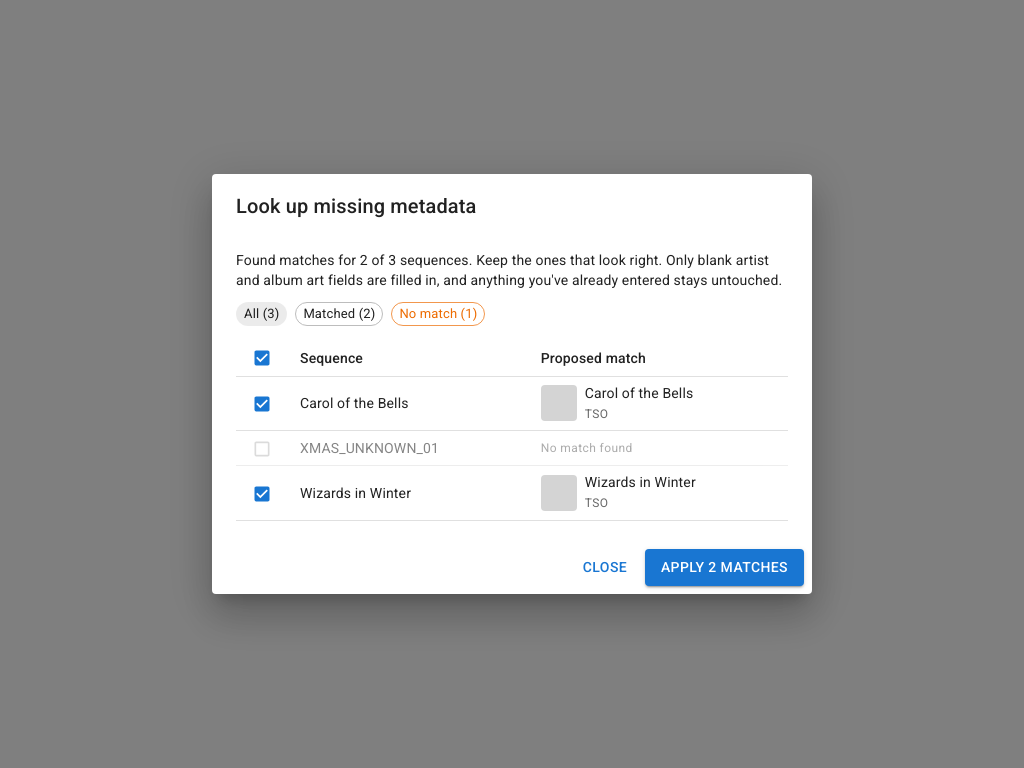
Test: BulkMetadataLookupDialog › scopes select-all to the filtered view without dropping other selections
The width and height of the screenshot is (1024, 768).
Check: the button "Apply 2 matches" is shown, box [645,549,804,586]
# Filter to matched rows only, uncheck them all via the header box…
Click the button "Matched (2)": (339,314) [295,302,383,326]
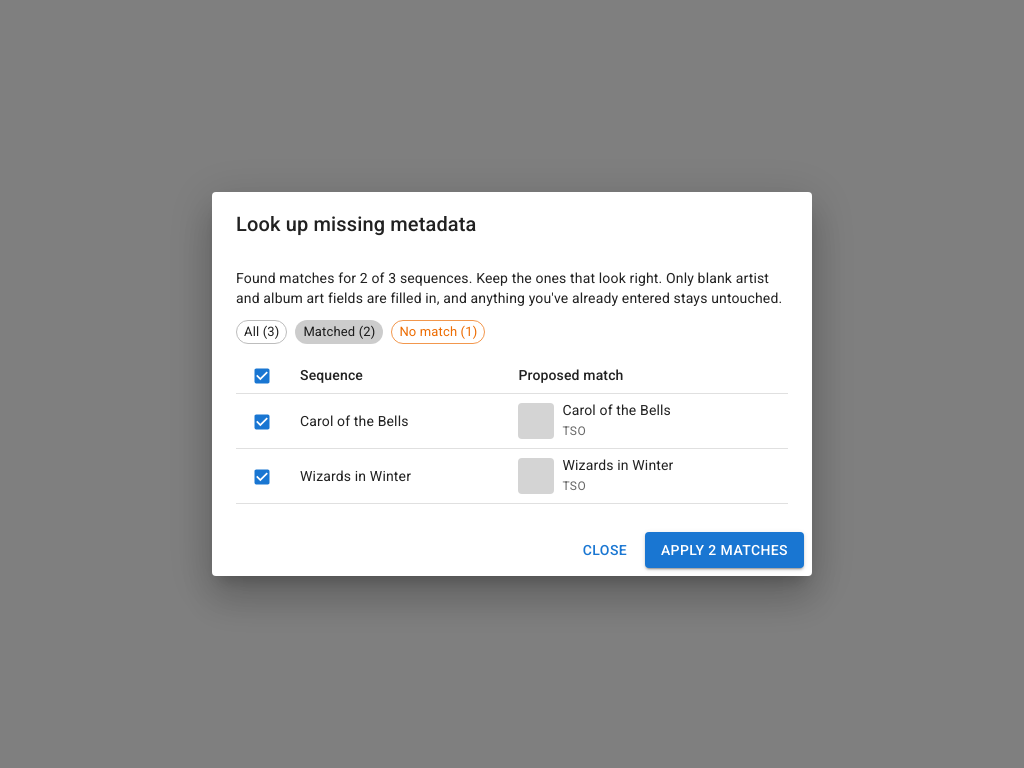
Click the checkbox named "Select all matches": (262,376) [252,366,272,386]
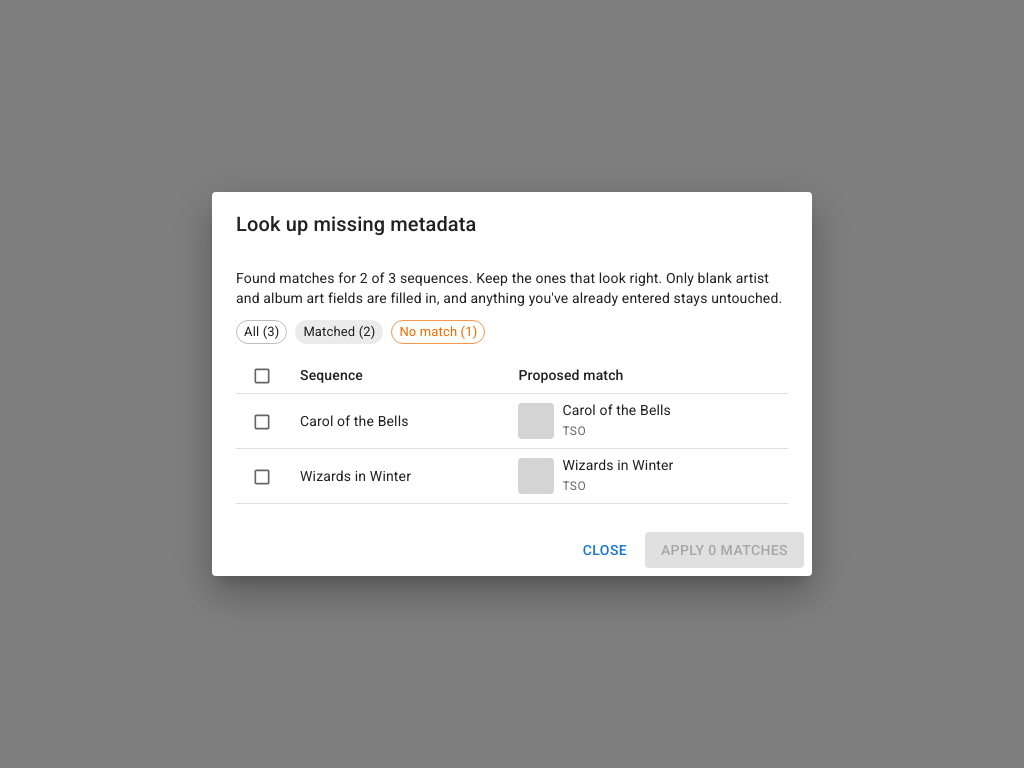
Check: the button "Apply 0 matches" is shown, box [645,532,804,568]
# …then re-check just one row and confirm the global count follows.
Click the checkbox named "Apply match for Carol of the Bells": (262,422) [252,412,272,432]
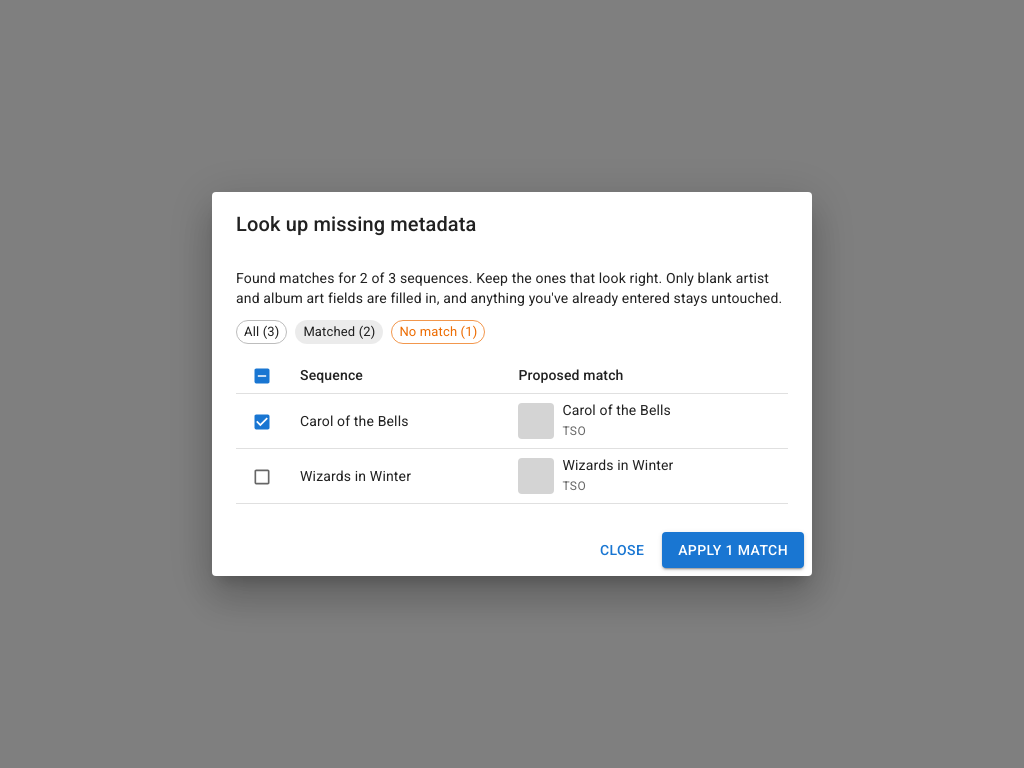
Check: the button "Apply 1 match" is shown, box [662,532,804,568]
